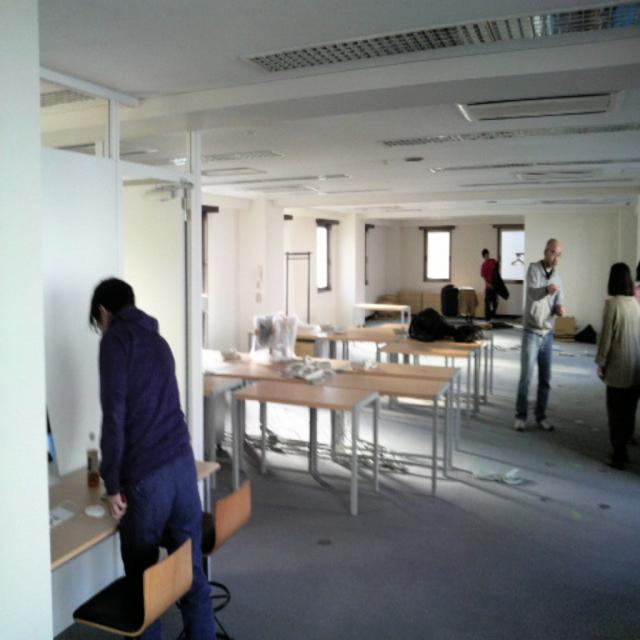chair: (70, 542, 194, 639)
desk: (232, 381, 377, 515)
person: (83, 275, 214, 639), (512, 239, 566, 433), (594, 262, 640, 471), (479, 248, 509, 320)
